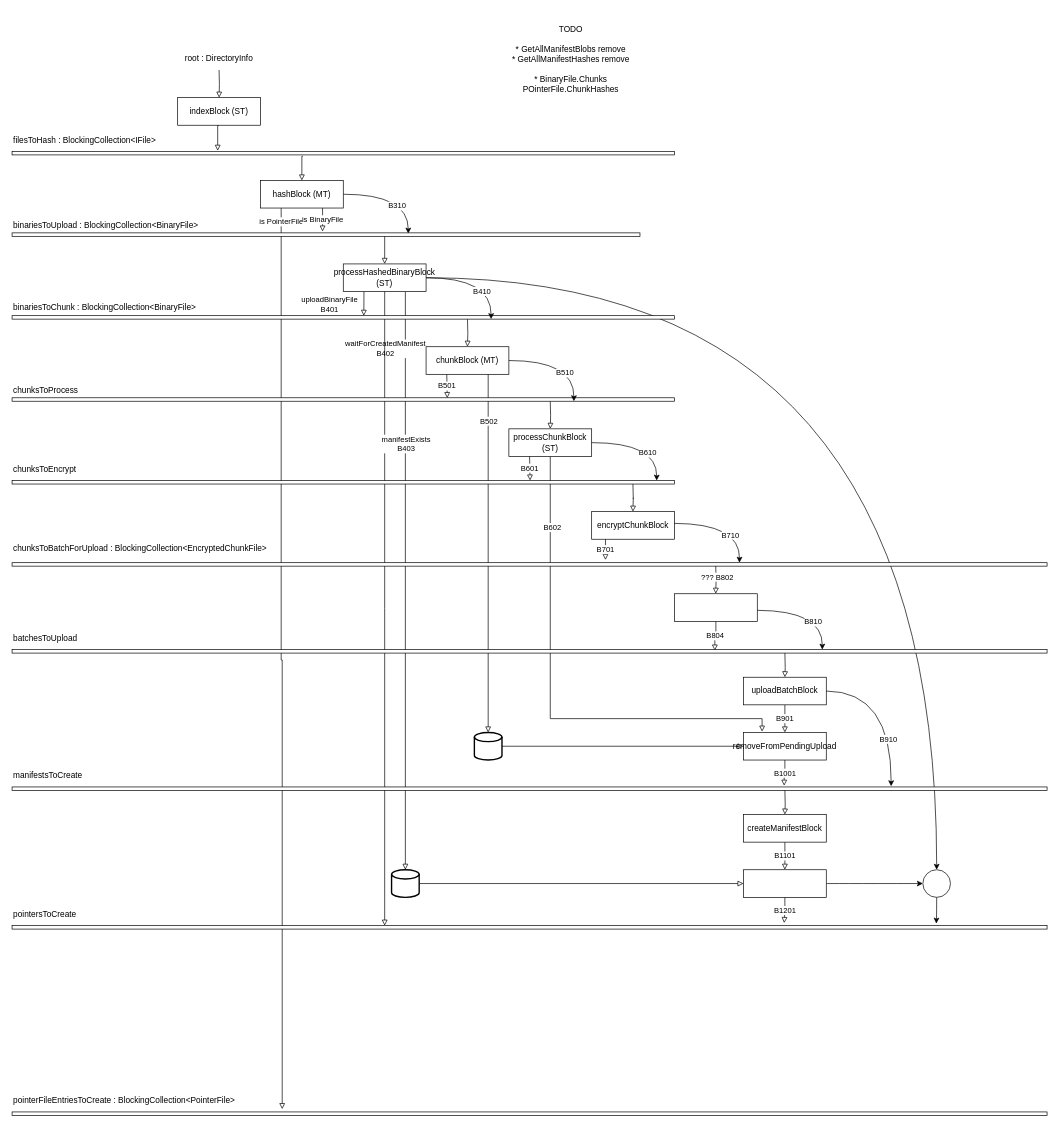
Some shapes in this 1059 by 1127 pixel diagram are drawn without their labels. Here are the shapes that lost their labels. From the top down, the centre of each, then its label:
At [715,607]: "createUploadBatchBlock".
At [487,745]: "chunksForManifest".
At [405,883]: "binariesWaitingForManifestCreation".
At [784,883]: "onManifestCreated".
At [936,883]: "B1301".
